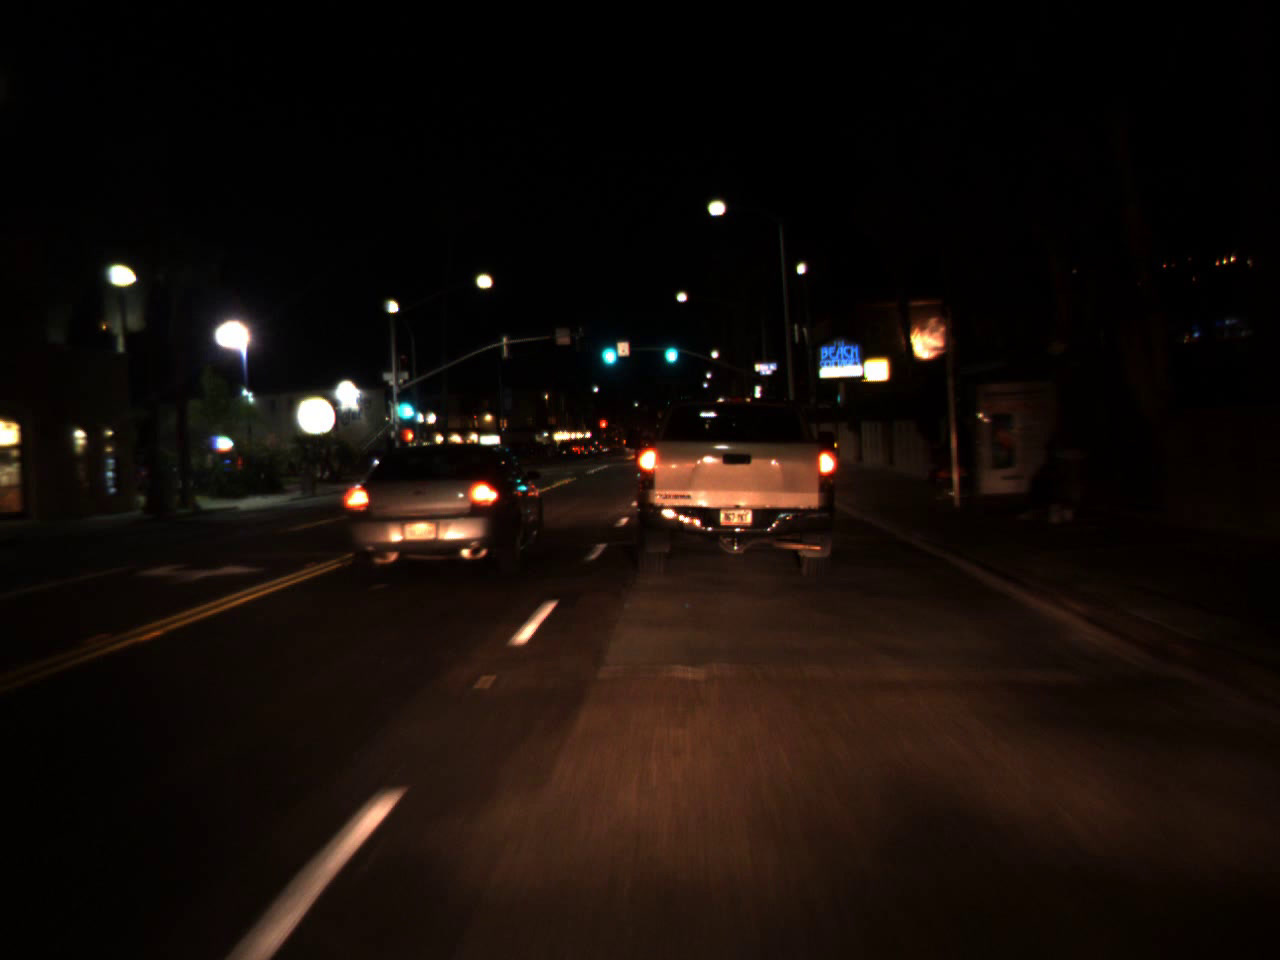go: (388, 385, 418, 424), (596, 328, 619, 370), (660, 331, 679, 367)
